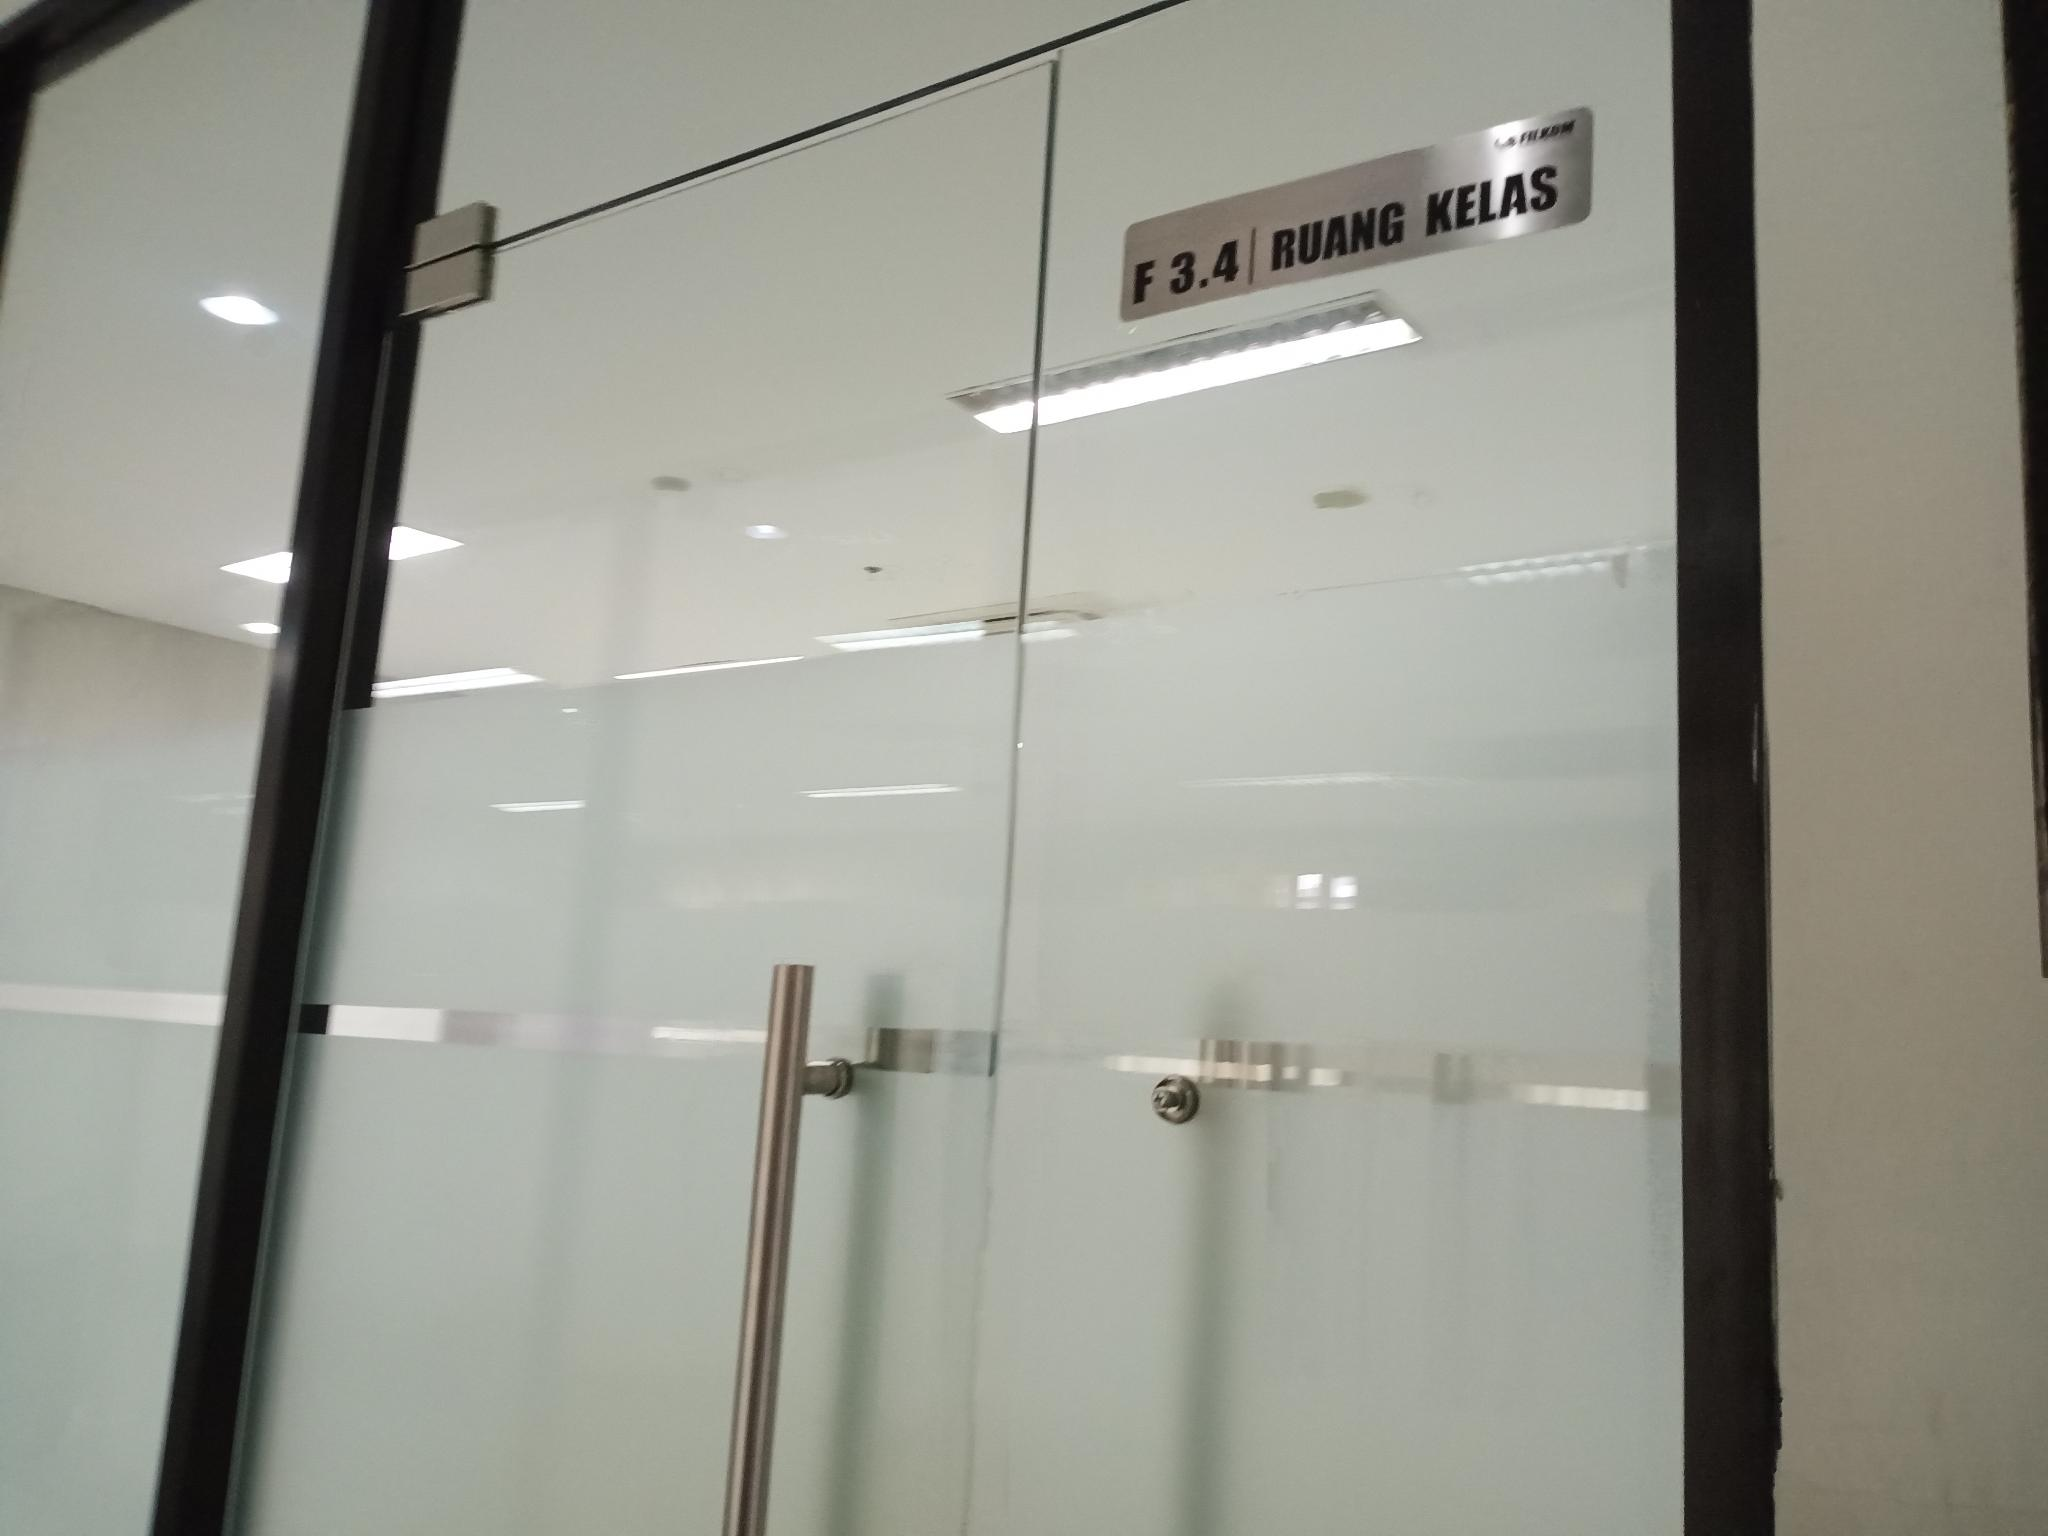plate: (1119, 105, 1596, 326)
